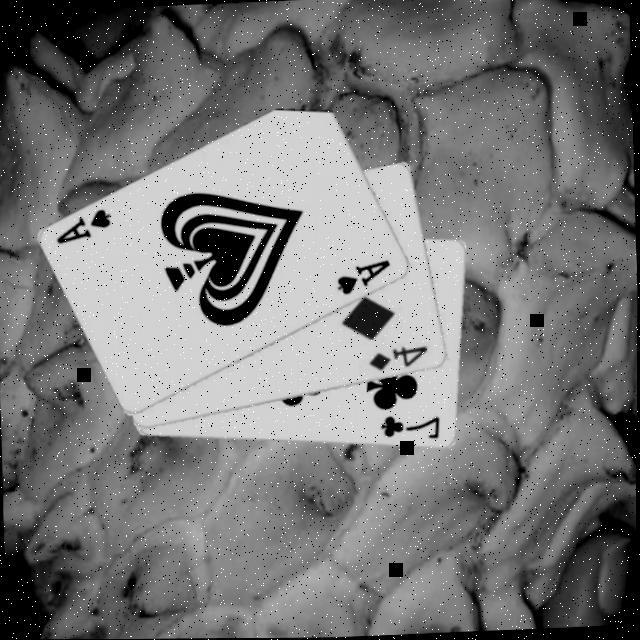4D: (366, 341, 430, 373)
7C: (378, 409, 442, 443)
AS: (50, 203, 114, 245), (333, 254, 393, 296)
